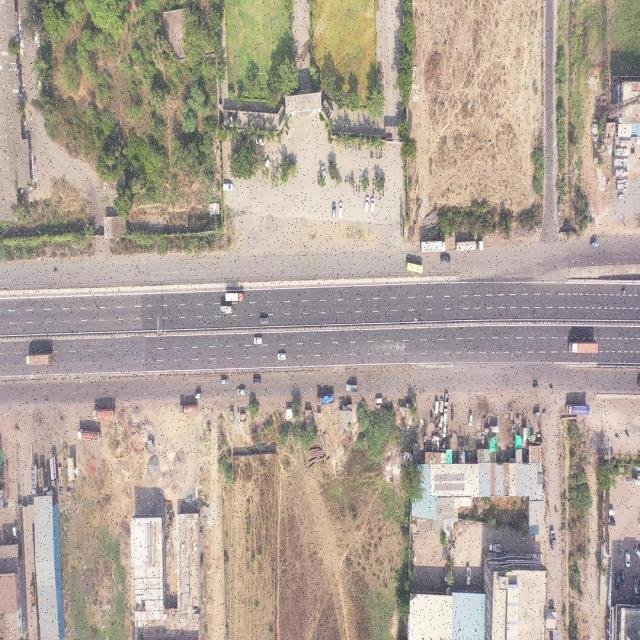3W: (532, 410, 542, 420), (590, 240, 599, 248), (194, 392, 202, 399), (532, 384, 540, 389)
Bus: (405, 261, 423, 275)
Cars: (623, 551, 632, 569), (255, 135, 266, 147), (338, 201, 344, 220), (614, 574, 620, 592), (222, 183, 233, 192), (263, 157, 270, 171), (331, 201, 336, 220), (633, 584, 639, 599), (321, 166, 327, 180), (253, 336, 263, 344), (370, 197, 375, 212), (468, 413, 473, 428), (440, 256, 450, 263), (277, 353, 287, 360), (252, 377, 262, 384), (365, 196, 369, 212), (439, 397, 443, 413), (375, 397, 383, 405), (238, 388, 247, 395), (444, 409, 448, 424), (434, 401, 438, 415), (221, 378, 229, 385), (439, 415, 443, 428)
LCV: (488, 541, 502, 553), (466, 566, 472, 588), (220, 305, 233, 315), (346, 382, 357, 393), (260, 318, 269, 326)
M2W: (548, 383, 553, 390), (44, 397, 49, 404), (621, 289, 626, 295), (554, 507, 558, 514), (359, 175, 362, 184), (372, 177, 375, 186), (379, 192, 382, 201), (340, 175, 343, 184), (355, 144, 358, 151), (356, 183, 358, 193), (372, 149, 374, 159), (345, 175, 347, 184), (381, 150, 383, 159), (273, 171, 275, 180), (349, 176, 351, 185), (376, 152, 378, 160), (353, 185, 355, 193), (359, 186, 361, 194), (53, 269, 57, 273), (350, 144, 352, 151)
MAV: (455, 240, 484, 252)
Truck: (77, 428, 102, 444), (568, 340, 598, 353), (565, 403, 591, 416), (26, 353, 54, 365), (419, 240, 446, 252), (92, 407, 117, 419), (178, 402, 198, 415), (317, 394, 336, 405), (225, 292, 244, 303), (550, 530, 556, 553)
